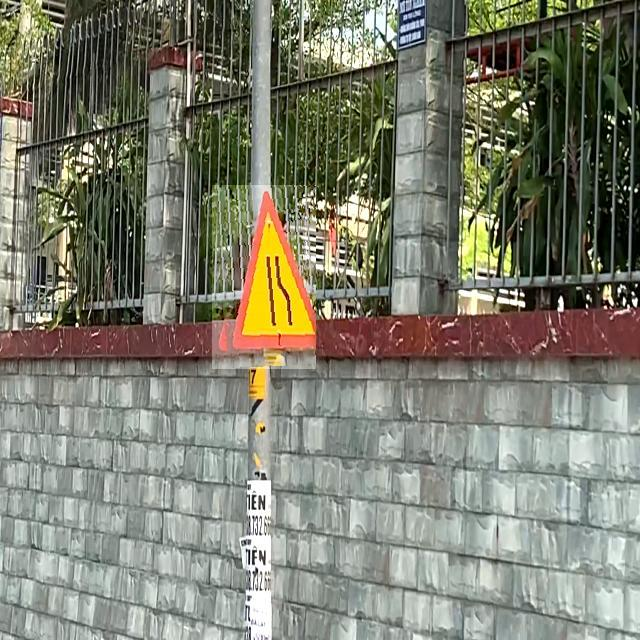W-203c: (213, 186, 317, 370)
